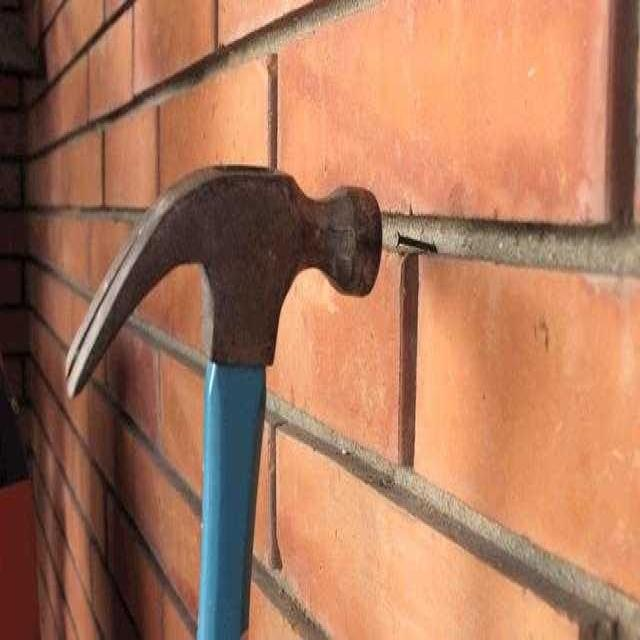hammer: (63, 158, 383, 640)
